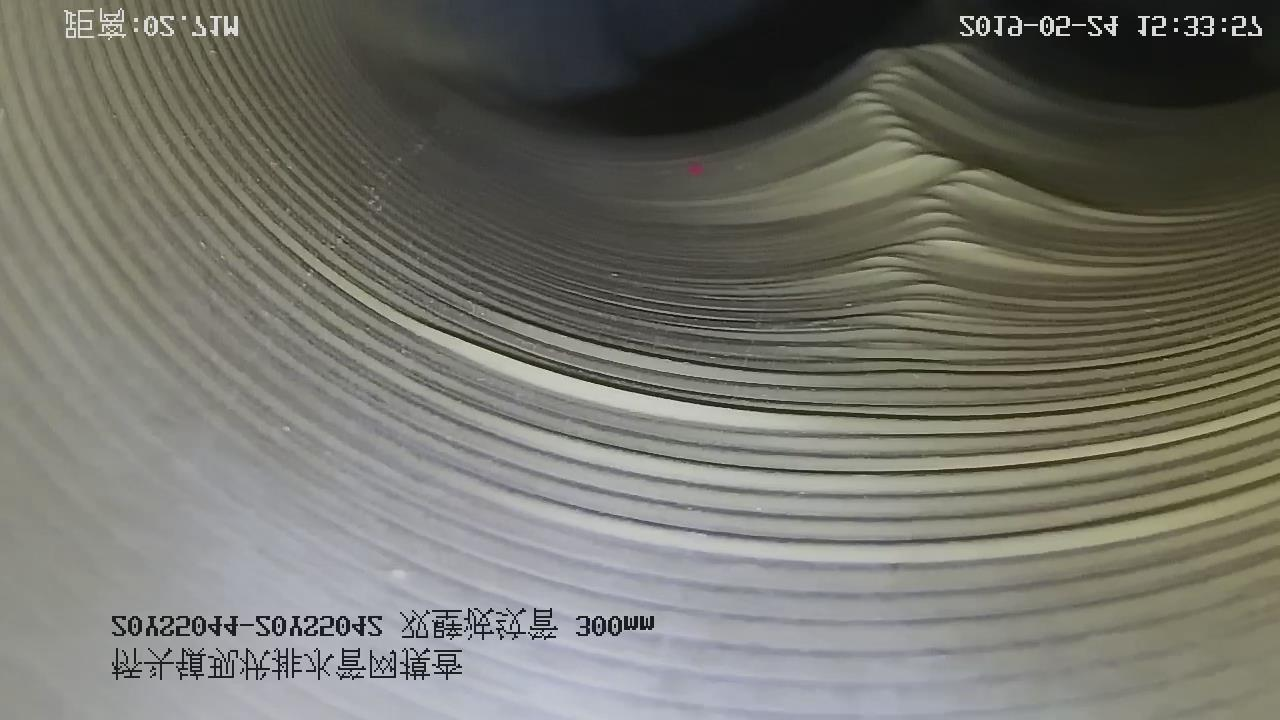BX: (701, 32, 1158, 366)
